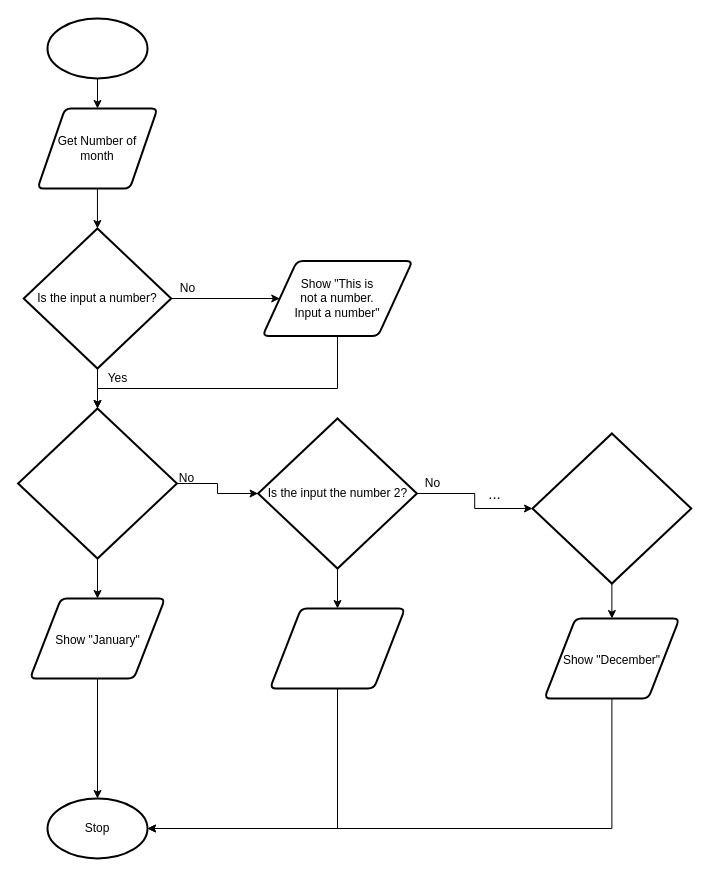
This 710x876 diagram has some shape labels left out. Each missing label, with the centre of its shape:
Is the input the number 12?: (611,508)
Is the input the number 1?: (97,483)
Show "February": (337,648)
Start: (97,48)
